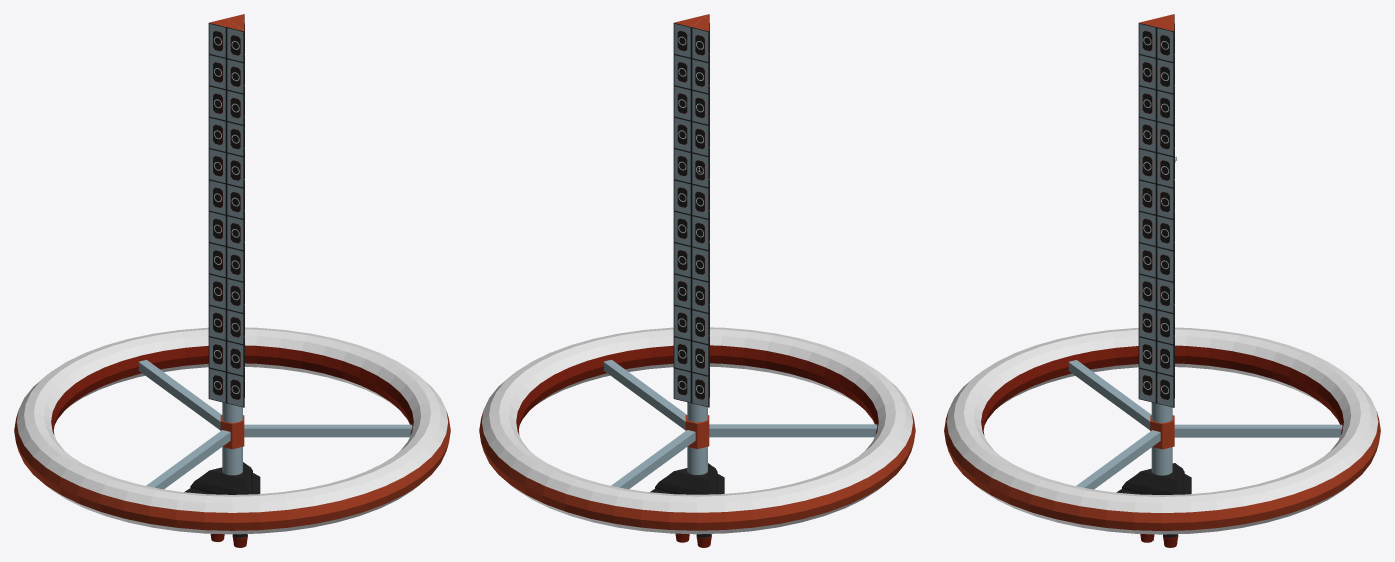
The model's file is shipcarrier.glb.
The picture shows the model from 3 angles, left to right: view 1: azimuth 30°, elevation 25°; view 2: azimuth 150°, elevation 25°; view 3: azimuth 270°, elevation 25°; orthographic projection.
Visible parts, largest first — view 1: ring, mainShip, Cylinder; view 2: ring, mainShip, Cylinder; view 3: ring, mainShip, Cylinder.
Part boxes in pixels (bbox=[...]): ring: bbox=[14, 327, 450, 534]; mainShip: bbox=[208, 14, 244, 475]; Cylinder: bbox=[184, 462, 260, 494]; ring: bbox=[479, 327, 915, 534]; mainShip: bbox=[673, 14, 709, 474]; Cylinder: bbox=[650, 463, 724, 494]; ring: bbox=[944, 327, 1380, 534]; mainShip: bbox=[1138, 14, 1174, 475]; Cylinder: bbox=[1116, 463, 1191, 494].
Bounding box in the file's own units: 778 × 1016 × 778.
77 materials, 77 textured.
